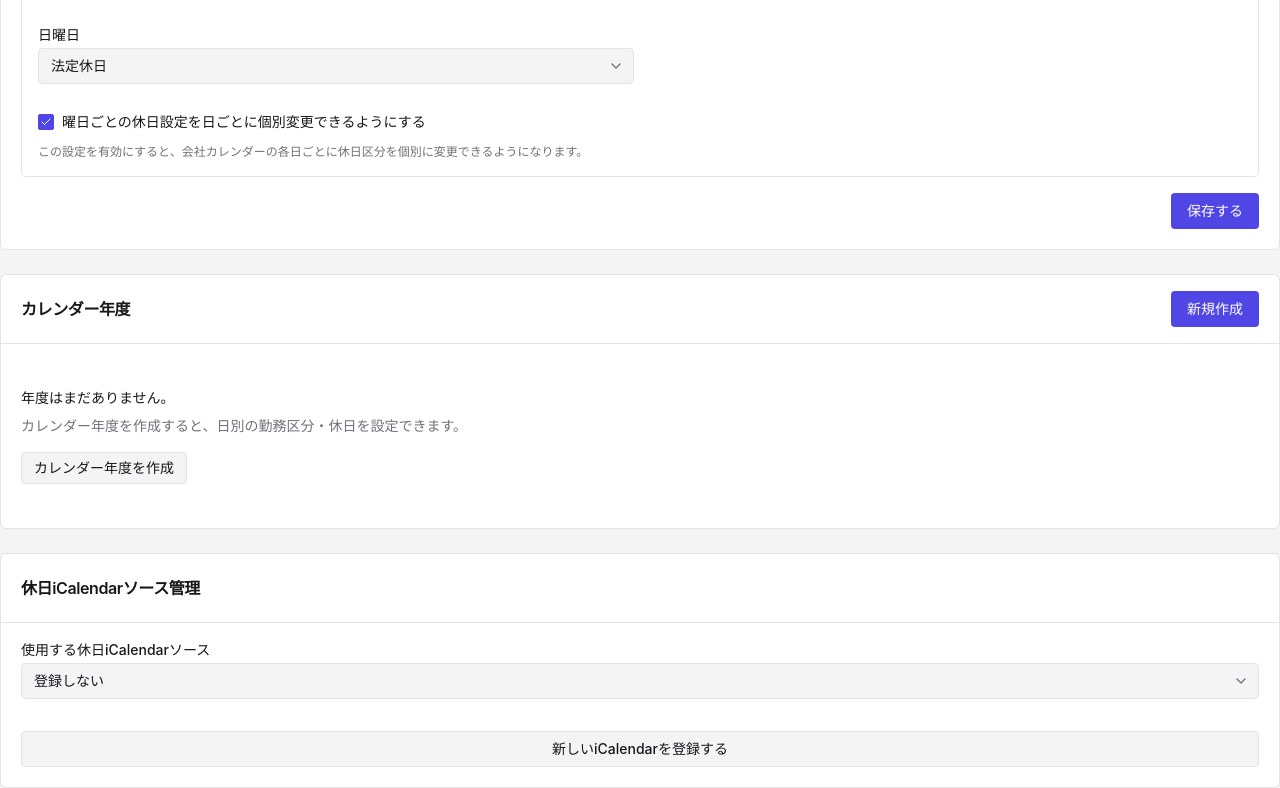
Scenario: WorkCalendarDetailPage › edits an existing url-kind source and updates its URL
The image size is (1280, 788).
(page scrolled)
Select "内閣府祝日カレンダー" in the dropdown labelled "使用する休日iCalendarソース" at (640, 681), box [21, 663, 1259, 699]
(page scrolled)
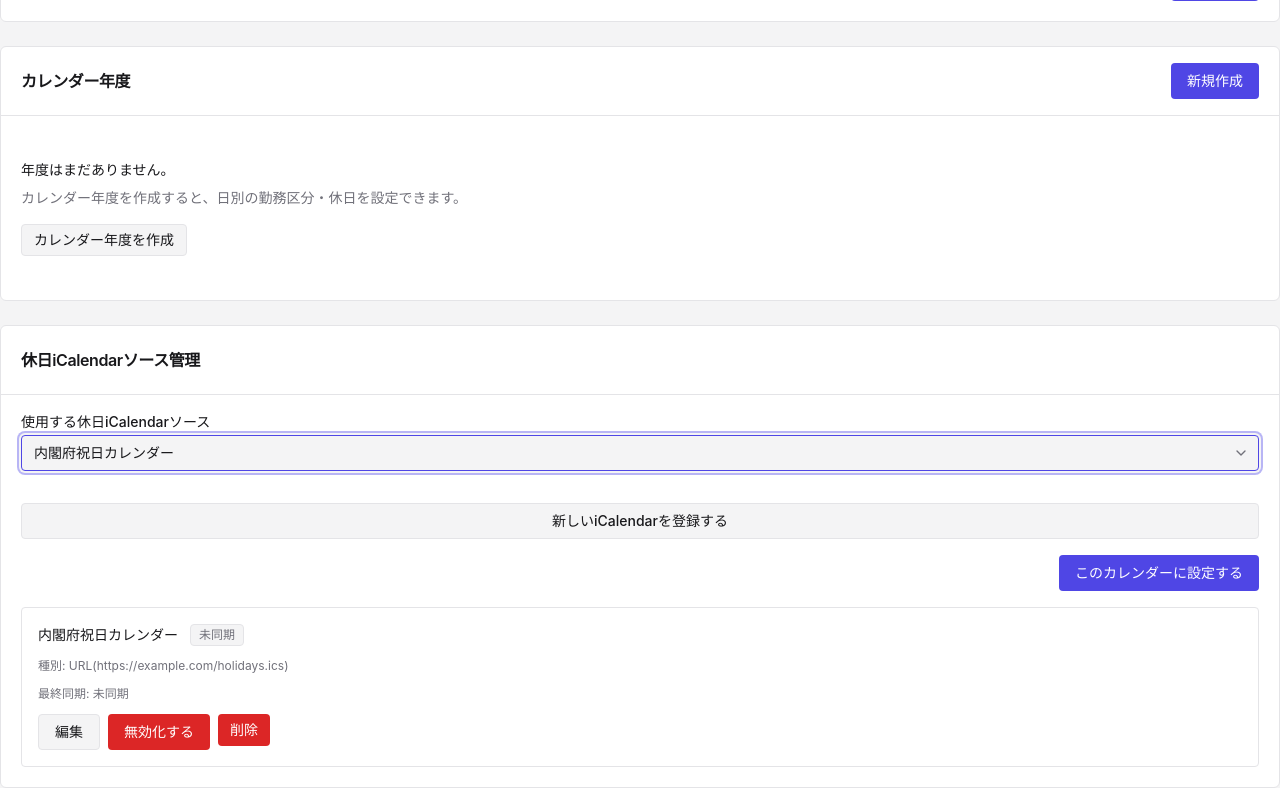
Click the button "編集" at (69, 732), box [38, 714, 100, 750]
(page scrolled)
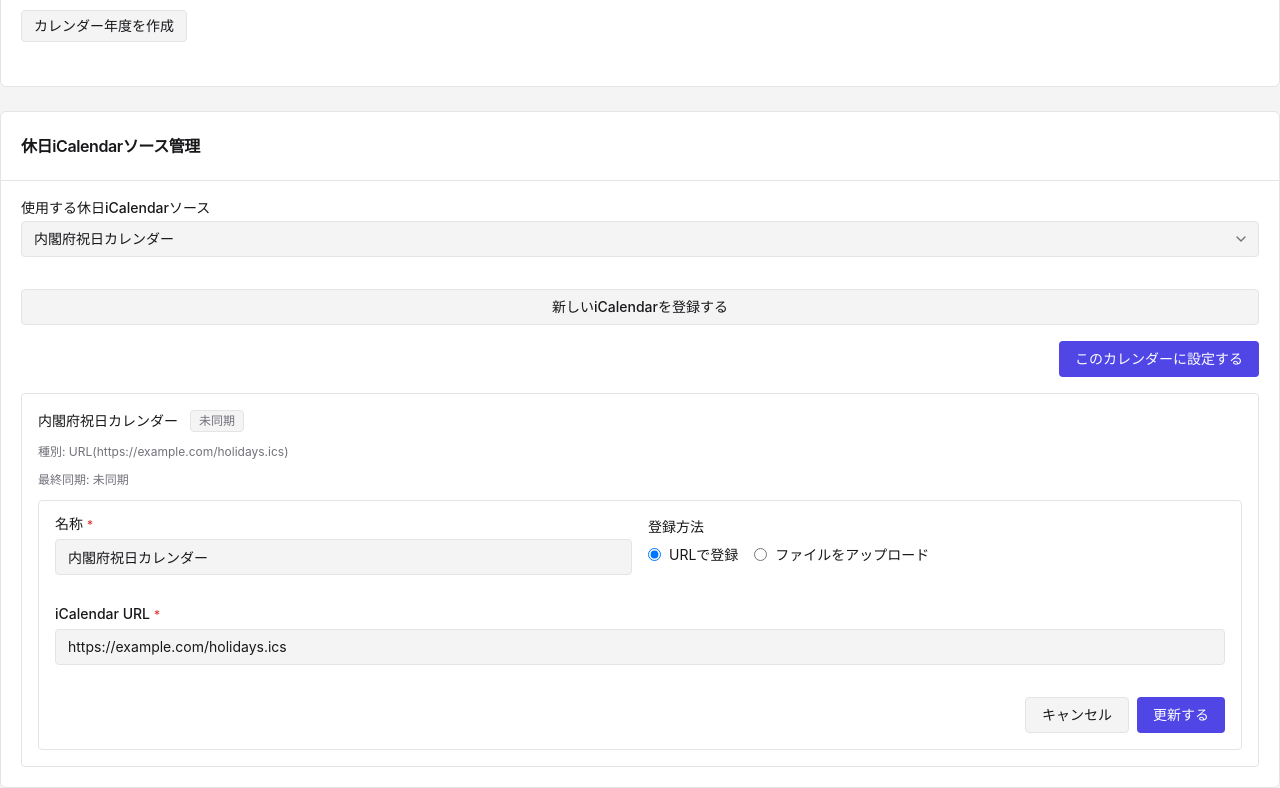
Replace the text in the field labelled "iCalendar URL" with "https://example.com/updated.ics" at (640, 647), box [55, 629, 1225, 665]
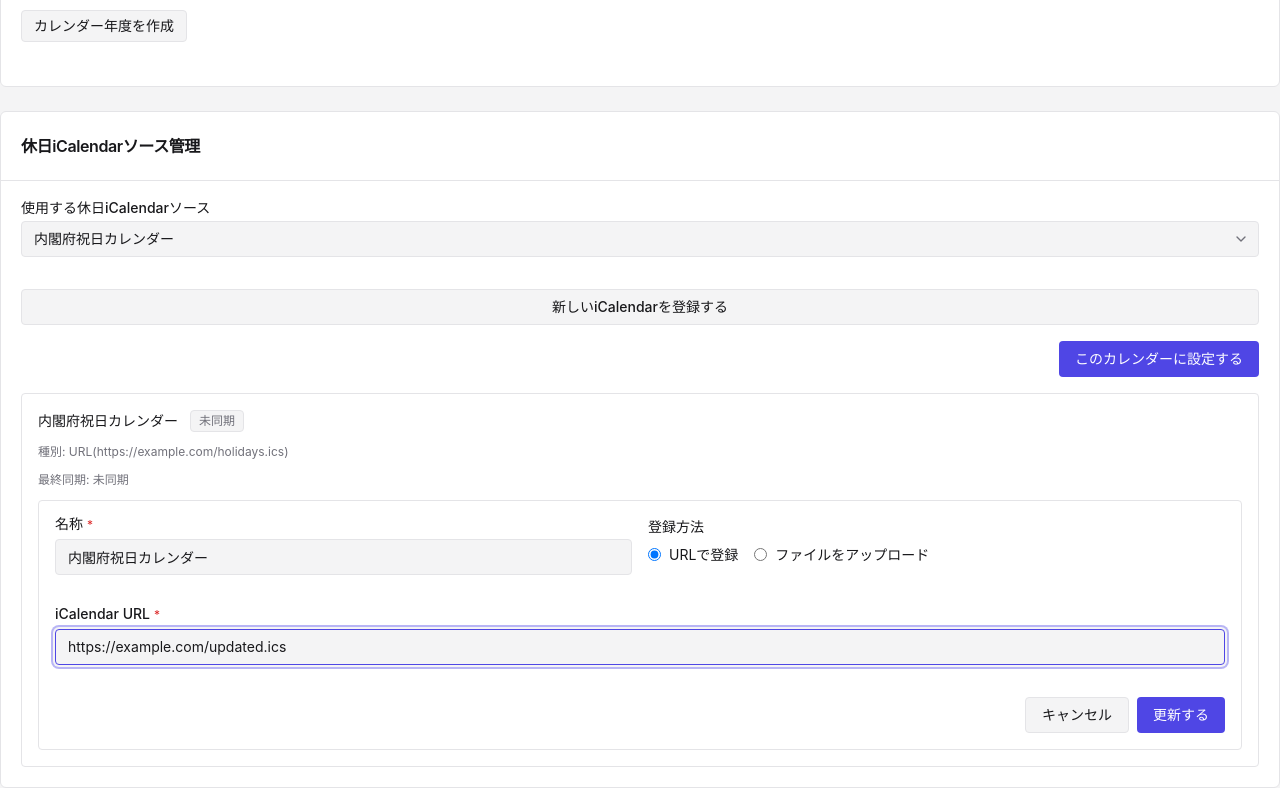
Click the button "更新する" at (1181, 715), box [1137, 697, 1225, 733]
(page scrolled)
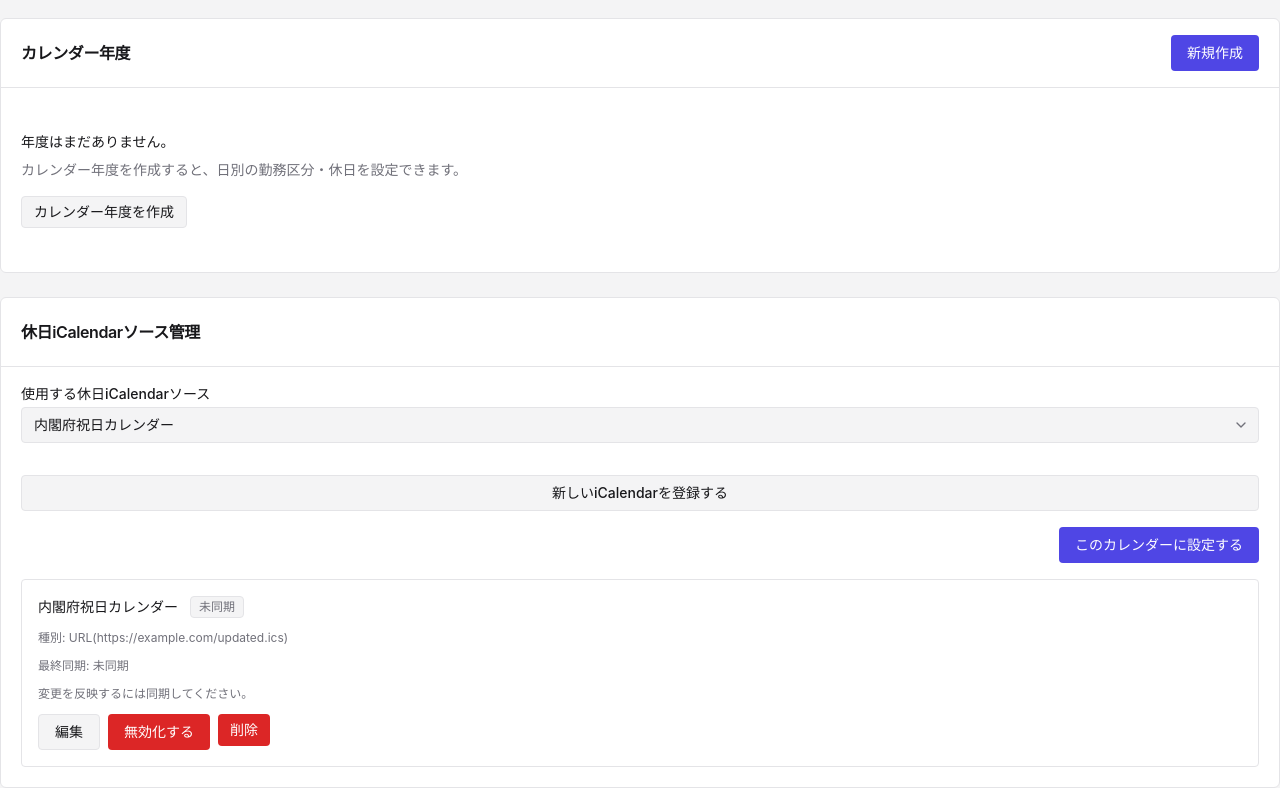
expect the text "変更を反映するには同期してください。" is shown: met, box [38, 686, 253, 701]
